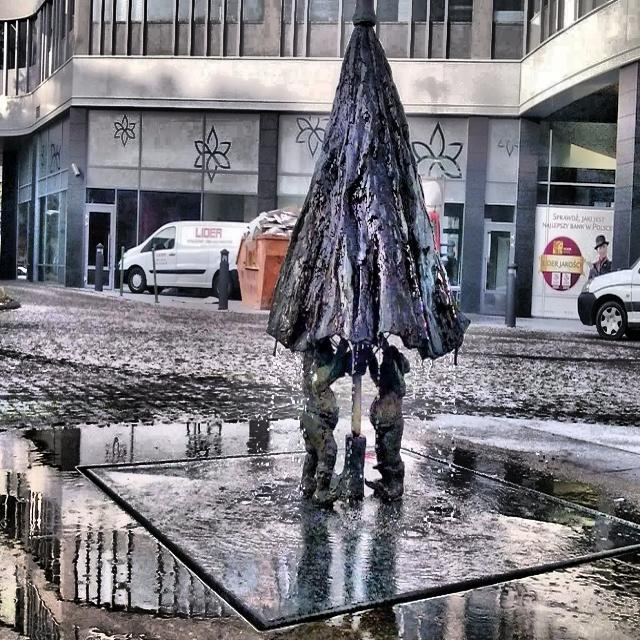Parasolniki: (267, 0, 472, 505)
